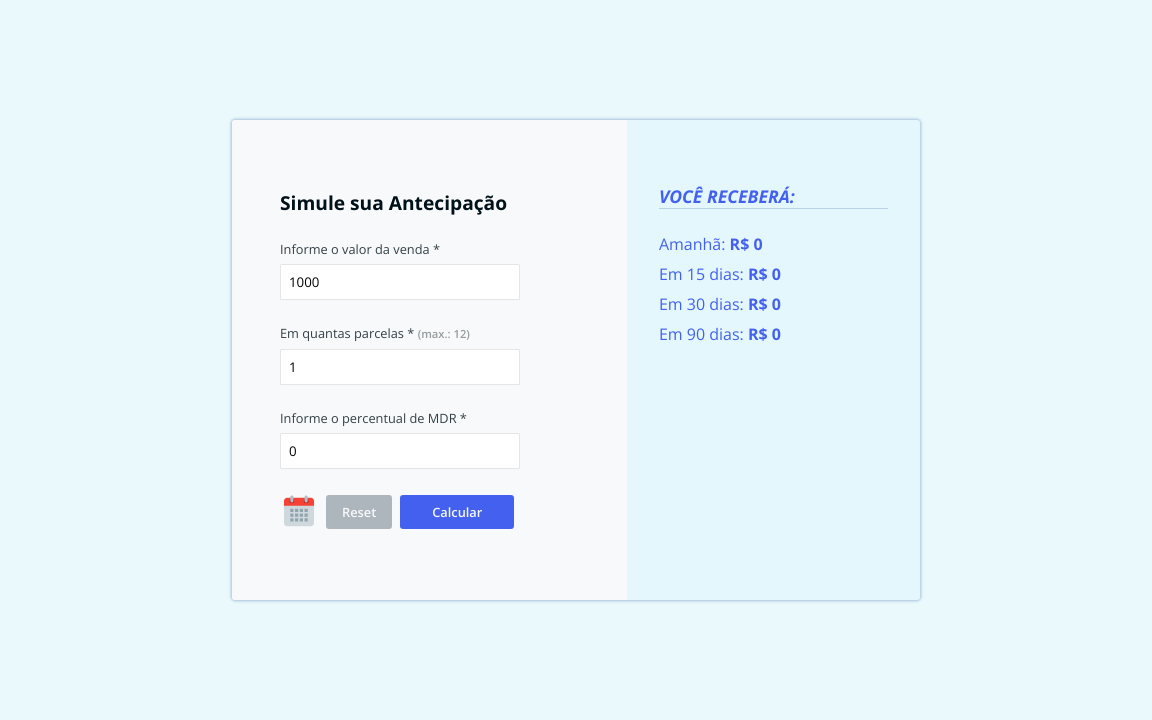
it: Testes de funções básicas › Verificando o comportamento do modal
This screenshot has width=1152, height=720.
Click the button with test id "calendar" at (299, 512), box top-left (280, 493), bottom-right (318, 531)
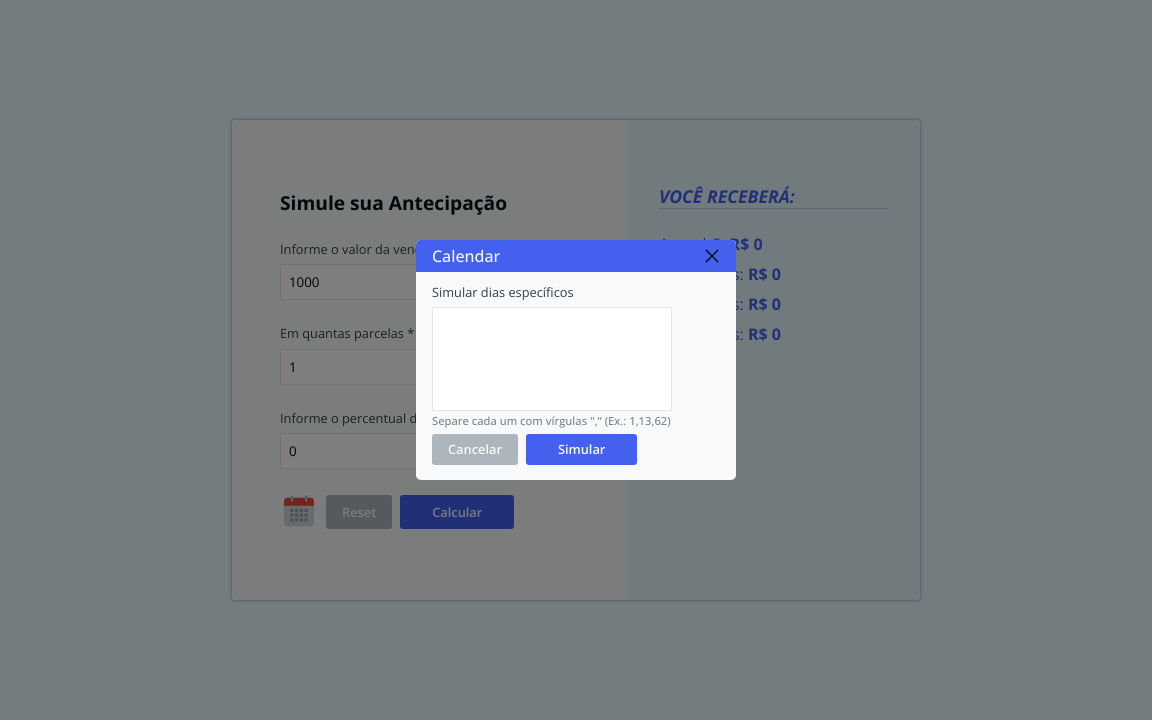
Result: the element with test id "modal" is shown
Result: the text box with test id "days" is shown at top-left (432, 307), bottom-right (672, 411)
Result: the button with test id "calcularDias" is shown at top-left (526, 434), bottom-right (638, 465)
Click the button with test id "cancelar" at (475, 450), box top-left (432, 434), bottom-right (518, 465)
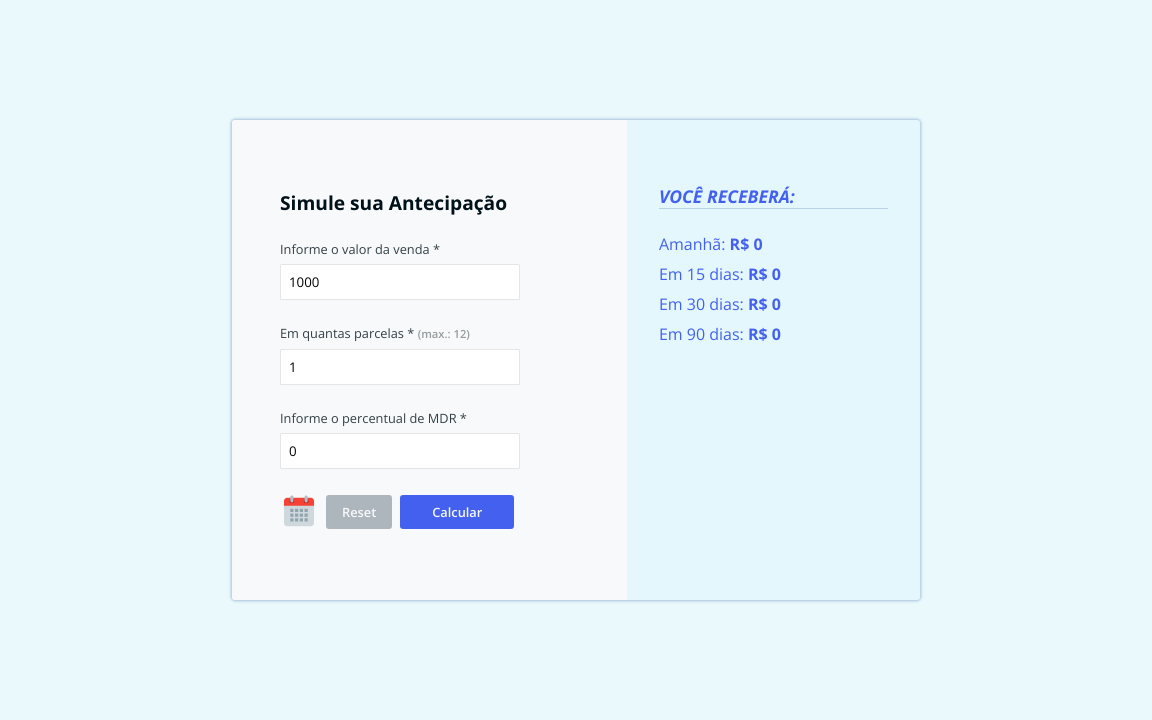
Result: the element with test id "modal" is gone
Click the 1st button at (299, 512), box top-left (280, 493), bottom-right (318, 531)
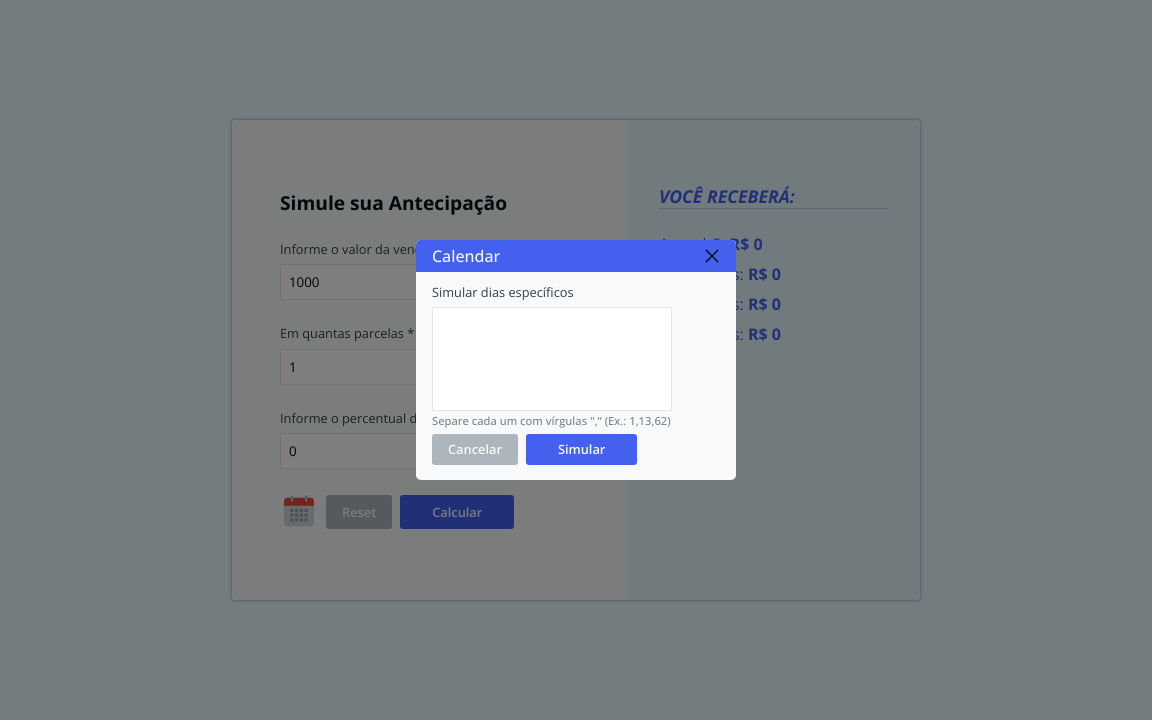
Result: the button with test id "closeModal" is shown
Click the button with test id "closeModal" at (712, 256), box top-left (704, 248), bottom-right (720, 264)
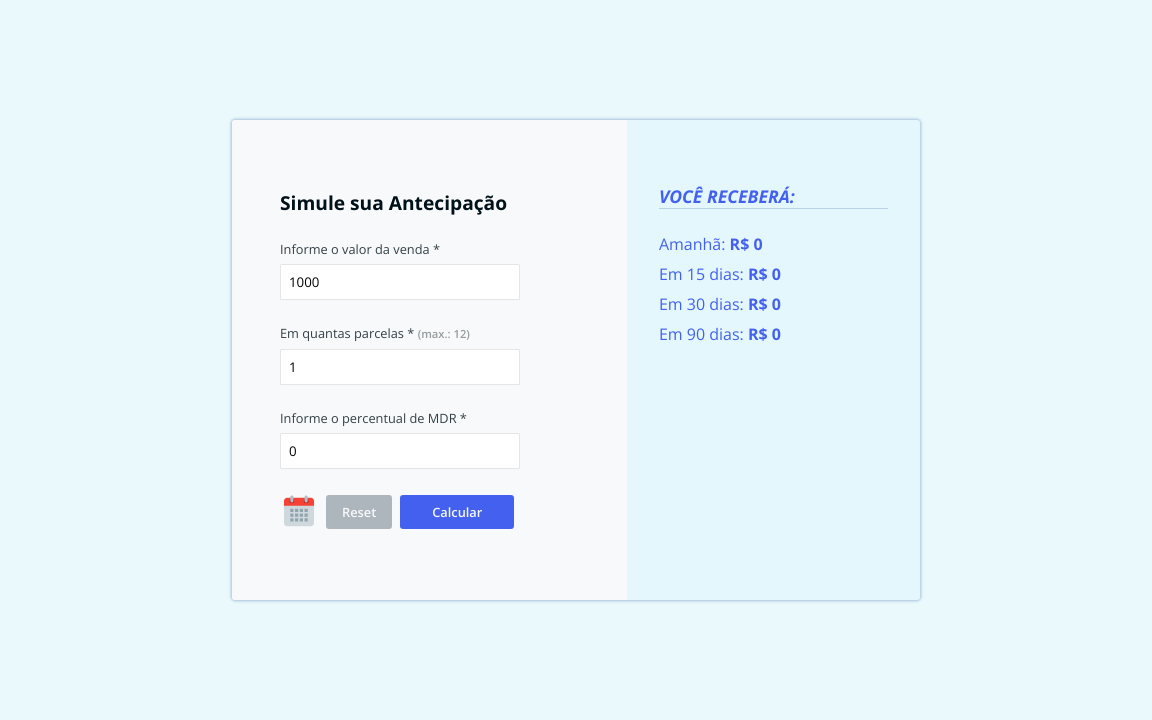
Result: the element with test id "modal" is gone
